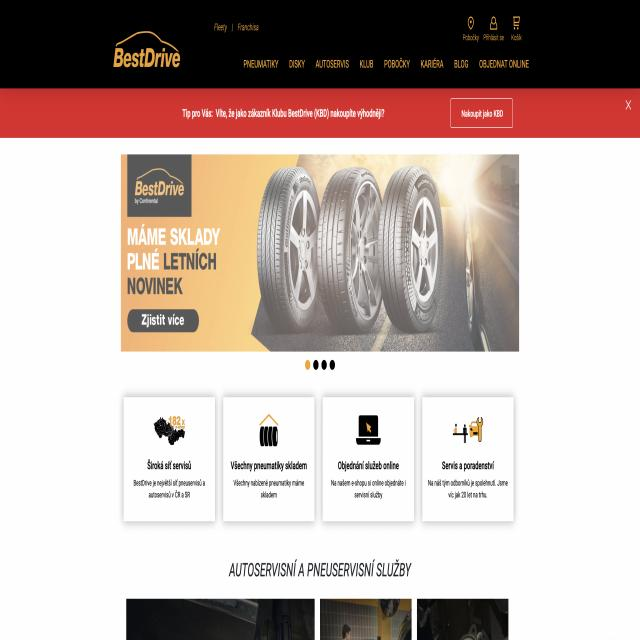Logo: (111, 21, 188, 79)
Navigation: (224, 49, 536, 85)
